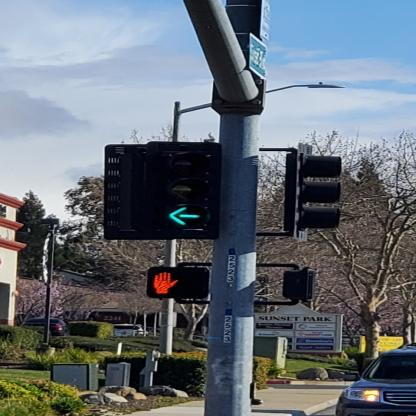left-green: (152, 142, 219, 239)
